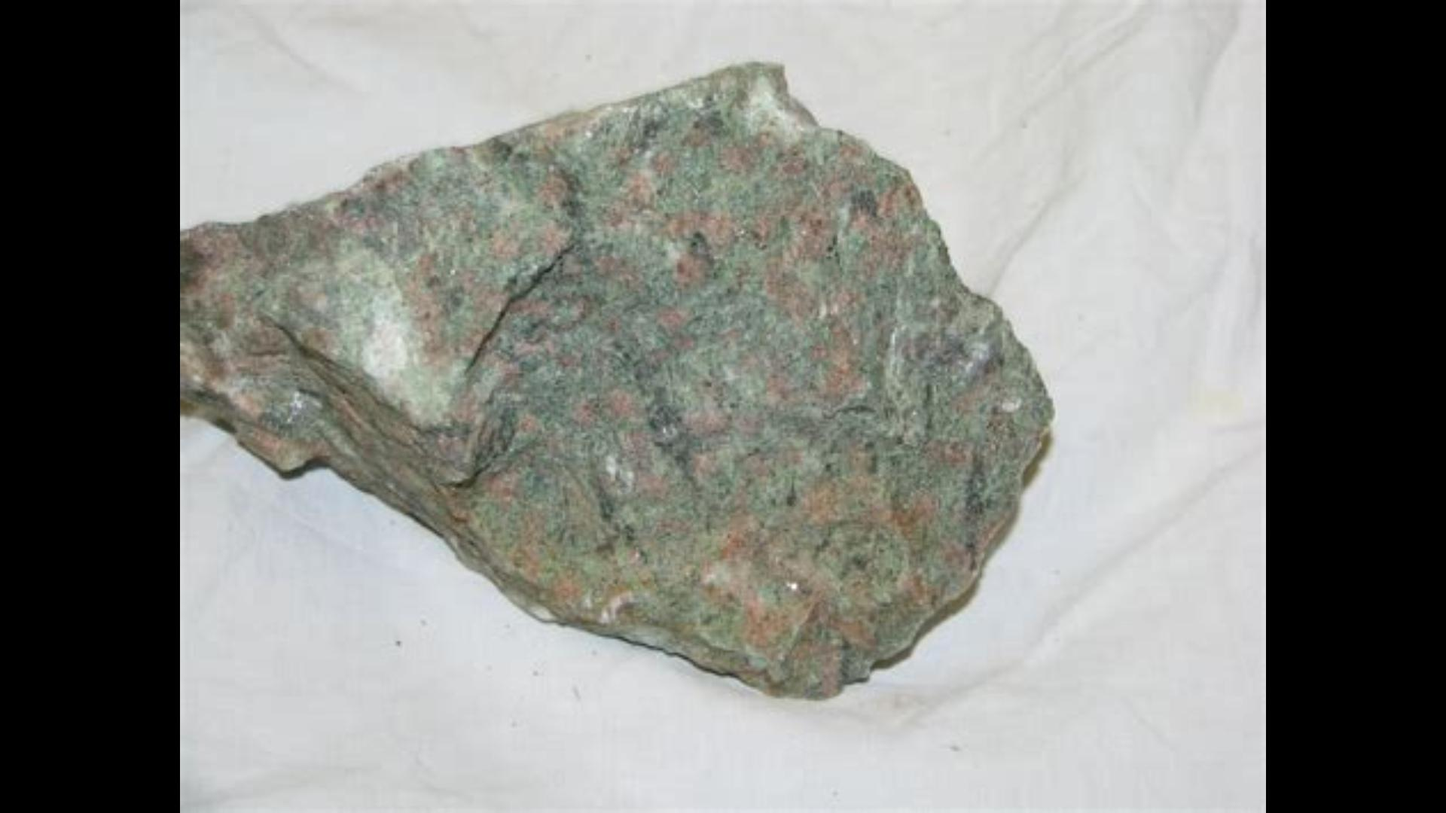rock: (180, 64, 1051, 692)
